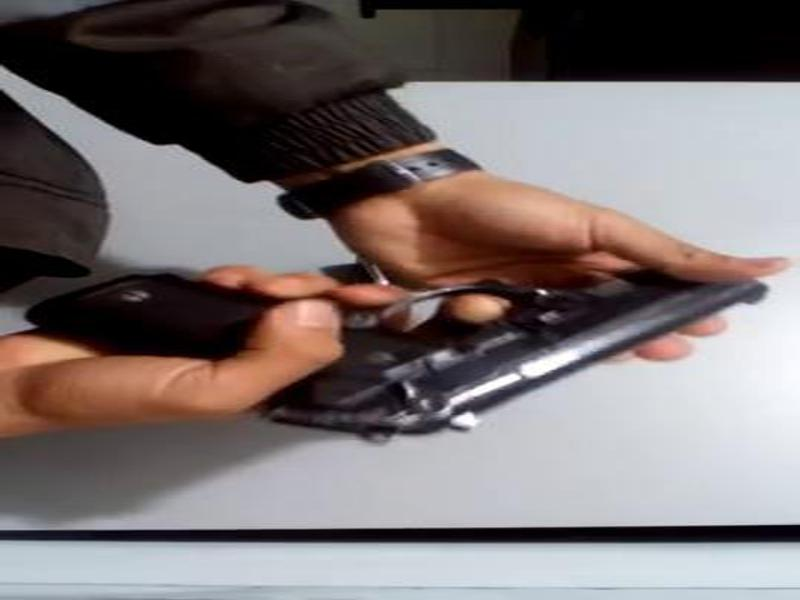Pistola: (16, 229, 774, 454)
